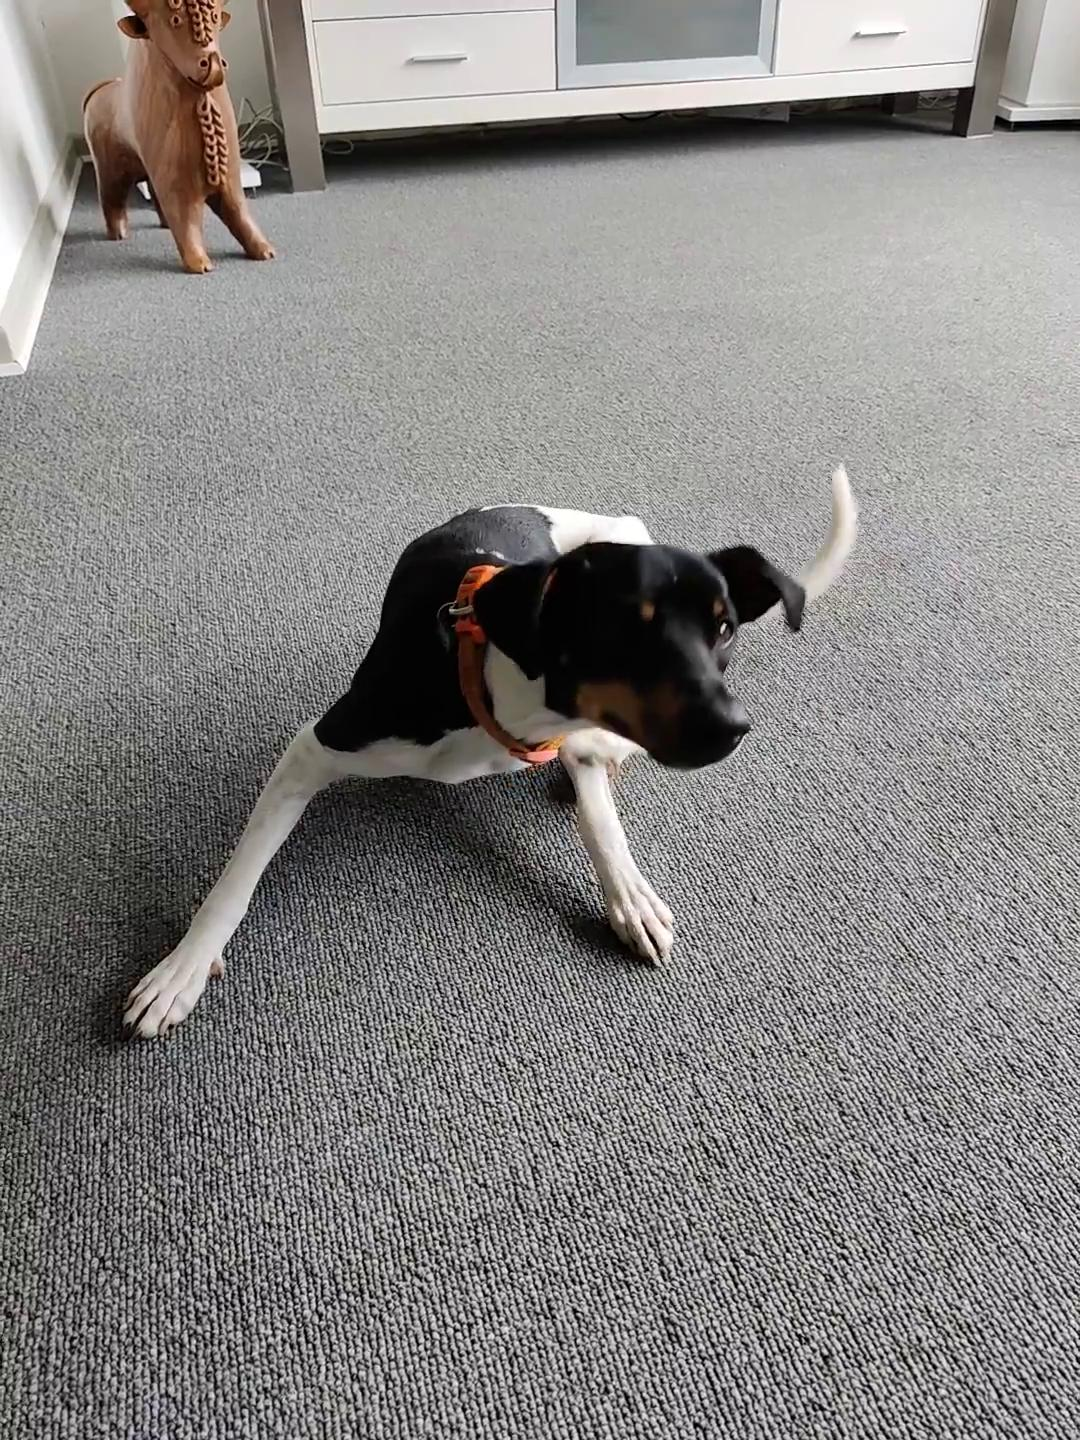Dog: (93, 451, 875, 1057)
